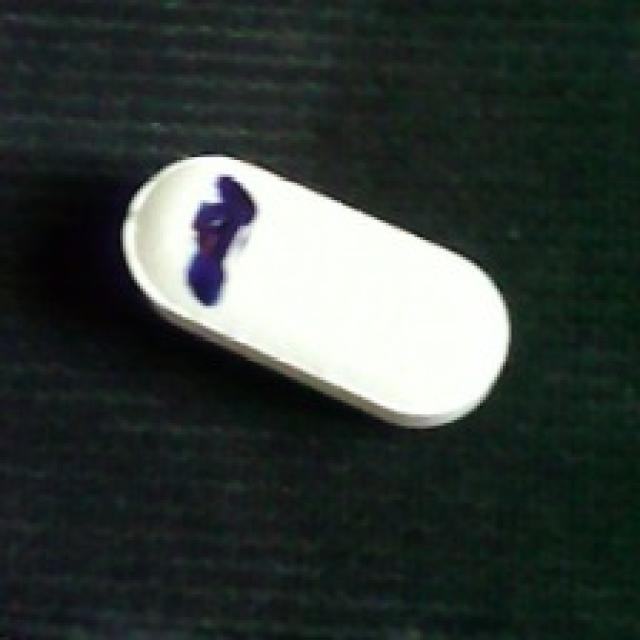defected: (106, 146, 520, 442)
